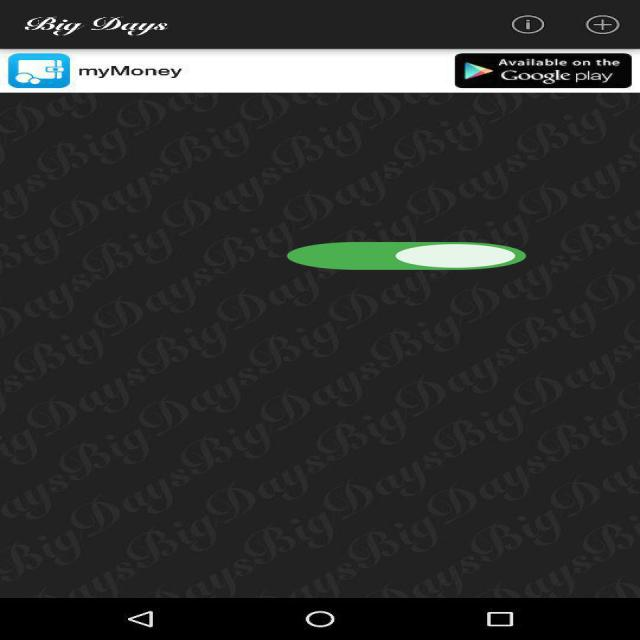social proof: (276, 231, 537, 283)
